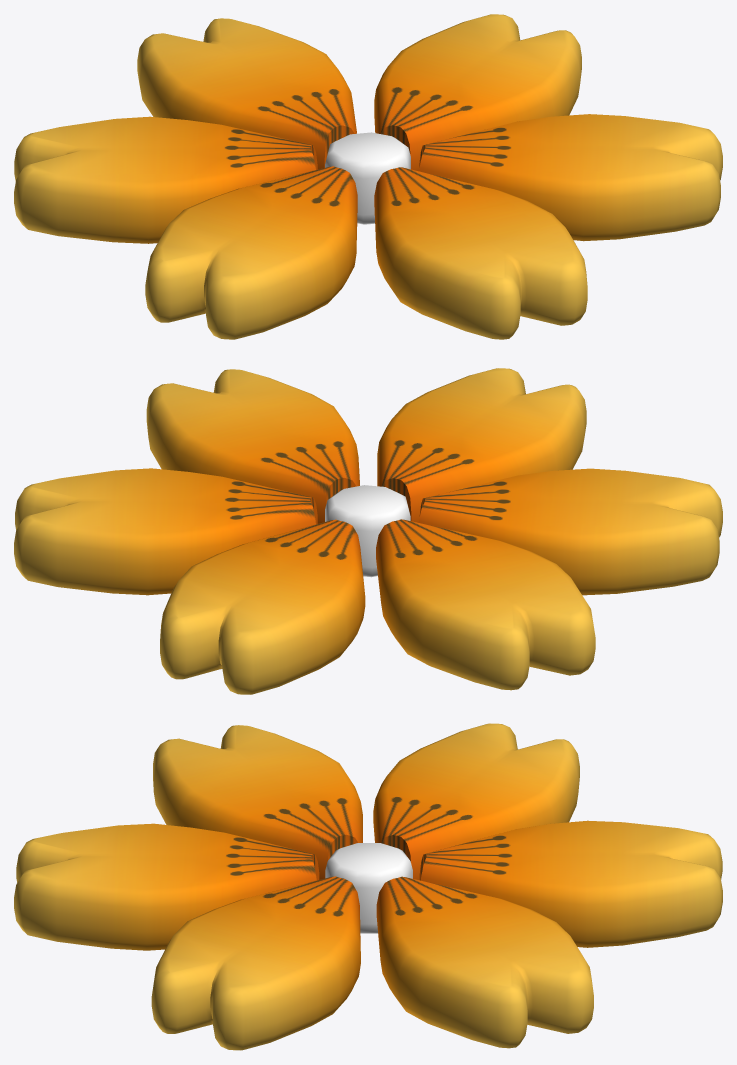
The model's file is New flower thick 5.fbx.
3 views of the same model, one above another, from view 1: azimuth 30°, elevation 25°; view 2: azimuth 150°, elevation 25°; view 3: azimuth 270°, elevation 25° (orthographic).
Parts seen in each view (by area): view 1: Cylinder.007; view 2: Cylinder.007; view 3: Cylinder.007.
Boxes of the visible parts, x1,y1,x2,y2 form: Cylinder.007: [14, 14, 722, 339]; Cylinder.007: [14, 368, 722, 694]; Cylinder.007: [14, 723, 722, 1050].
Bounding box in the file's own units: 29.08 × 3.05 × 31.25.
